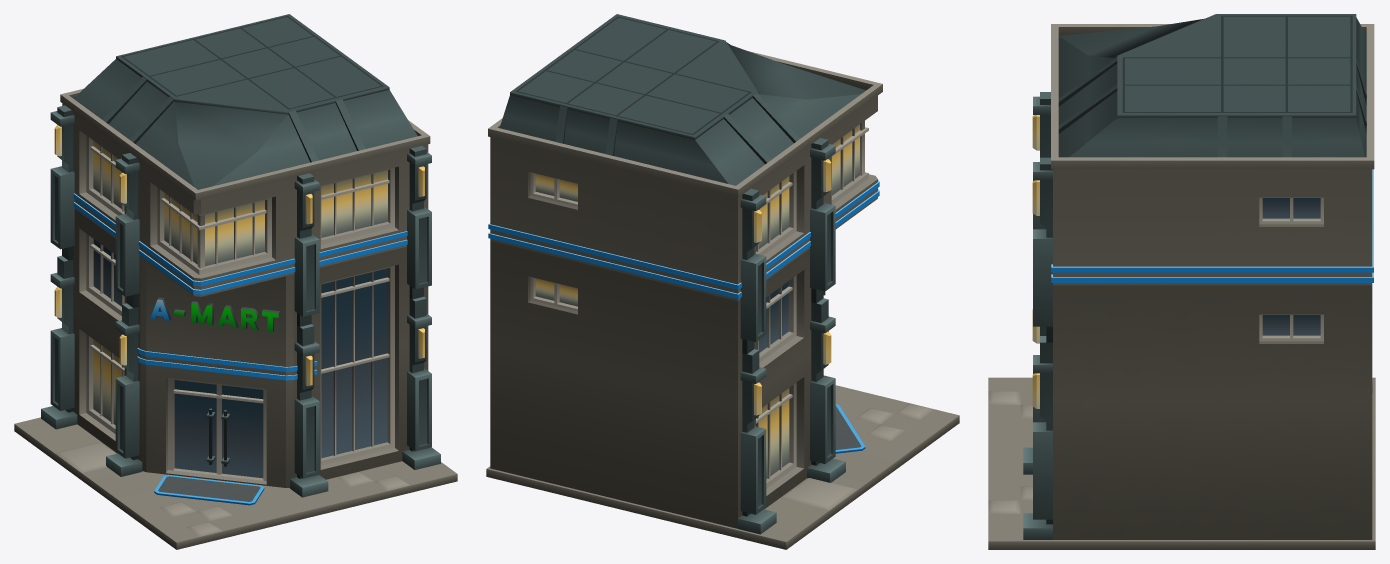
Rendered from Building_7B.fbx.
3 renders of one model, left to right at view 1: azimuth 30°, elevation 25°; view 2: azimuth 150°, elevation 25°; view 3: azimuth 270°, elevation 25°, orthographic. The views are drawn at different scales.
Parts seen in each view (by area): view 1: Building_7B, Building_7B_Window_Lights; view 2: Building_7B, Building_7B_Window_Lights; view 3: Building_7B.
Boxes of the visible parts, bbox=[...] form: Building_7B: bbox=[14, 14, 457, 549]; Building_7B_Window_Lights: bbox=[93, 141, 387, 424]; Building_7B: bbox=[486, 14, 959, 549]; Building_7B_Window_Lights: bbox=[535, 124, 859, 478]; Building_7B: bbox=[988, 14, 1375, 549].
Bounding box in the file's own units: 1200 × 1460 × 1200.
